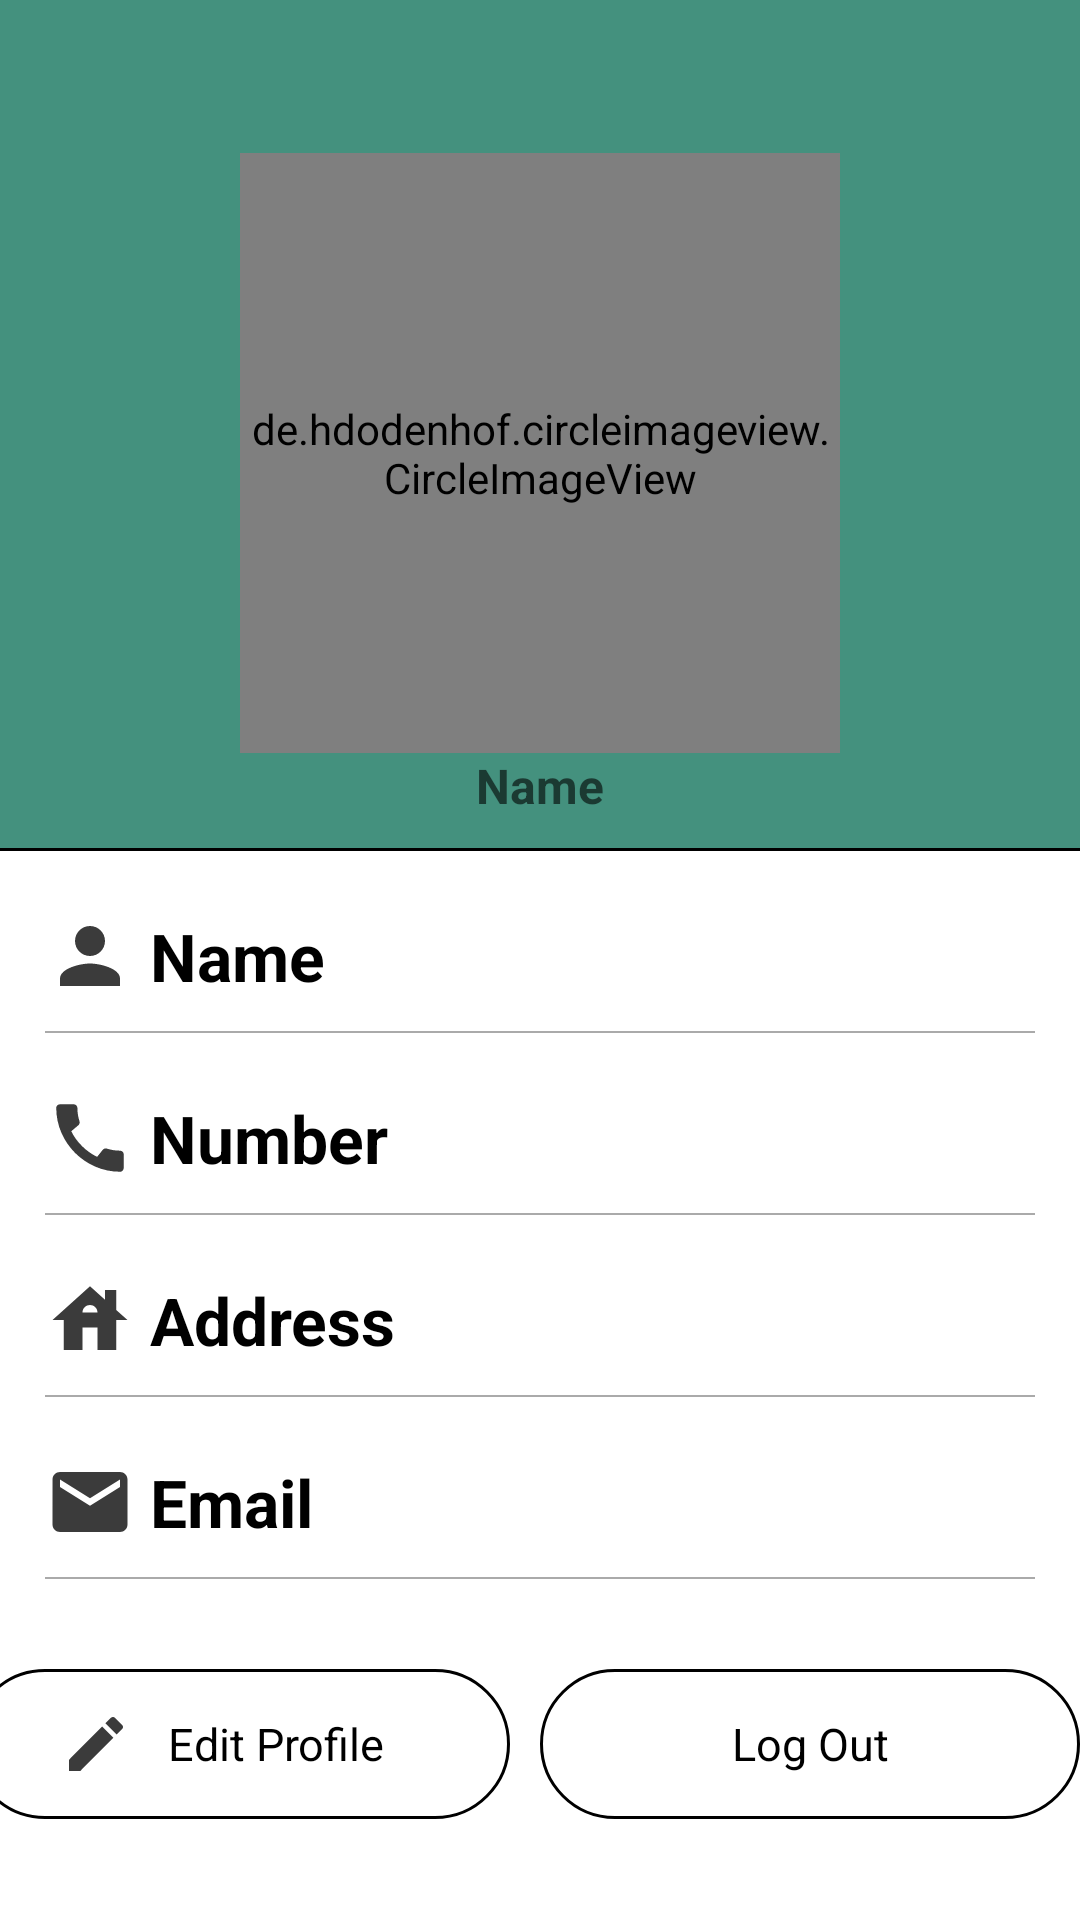

Named icons in this screenshot (1080w x 1920h) and their bounding boxes, [x1,y1,x2,y2]:
phone: [56,1104,124,1172]
profile: [60,926,120,986]
